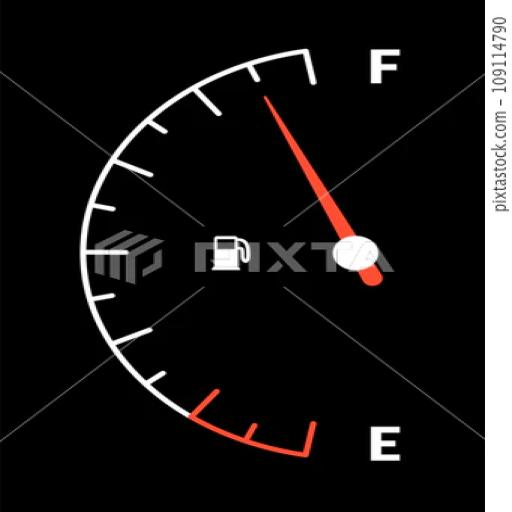empty: (360, 419, 404, 467)
fuel_icon: (206, 232, 252, 278)
full: (366, 47, 401, 87)
guage_area: (38, 38, 418, 470)
needle_center: (327, 230, 382, 278)
needle_tip: (258, 92, 292, 132)
